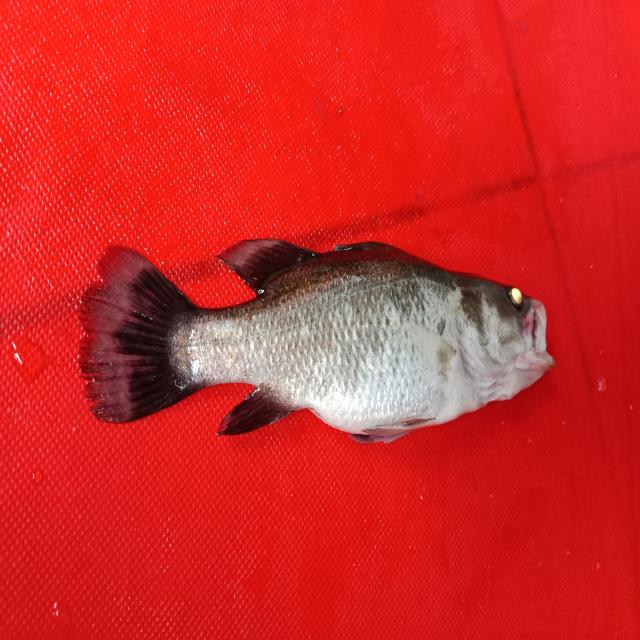ikan: (69, 207, 564, 461)
